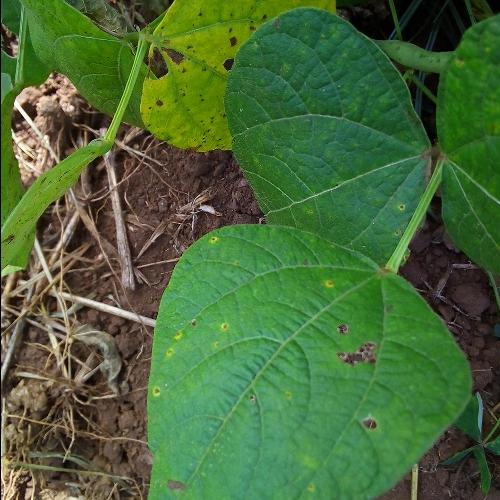hawar: (320, 318, 394, 377), (156, 458, 199, 498), (358, 414, 382, 434)
mozaik: (182, 244, 309, 456)
